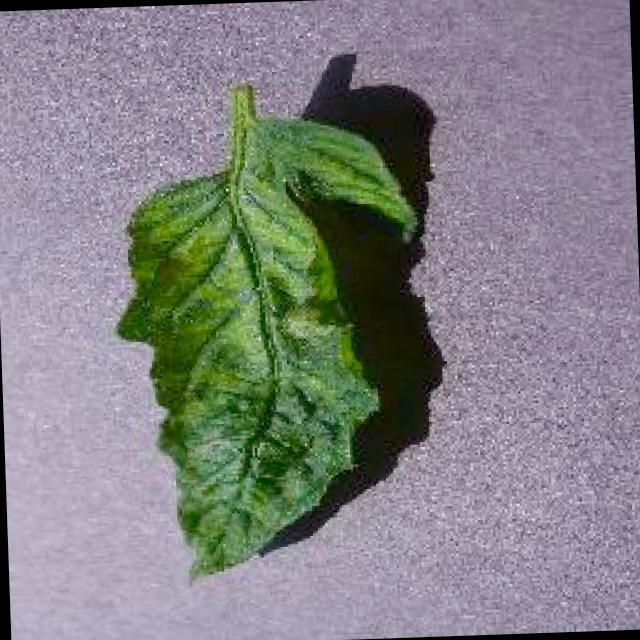Tomato mosaic virus leaf: (106, 110, 432, 591)
